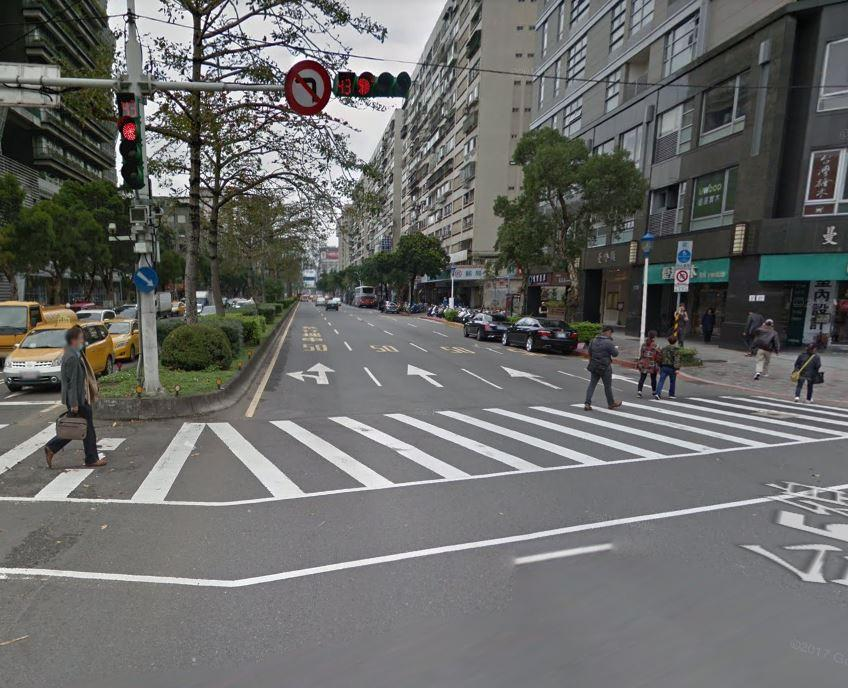green_traffic_light: (332, 71, 410, 96)
no_left_turn: (283, 59, 330, 114)
